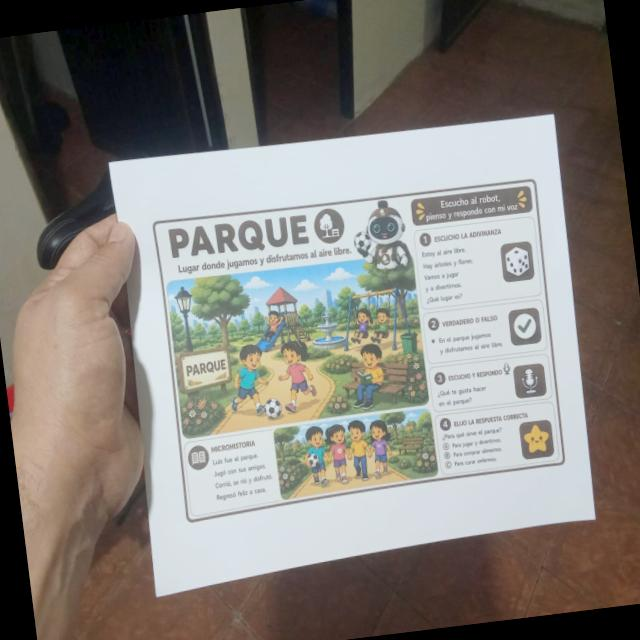parque: (145, 166, 578, 528)
